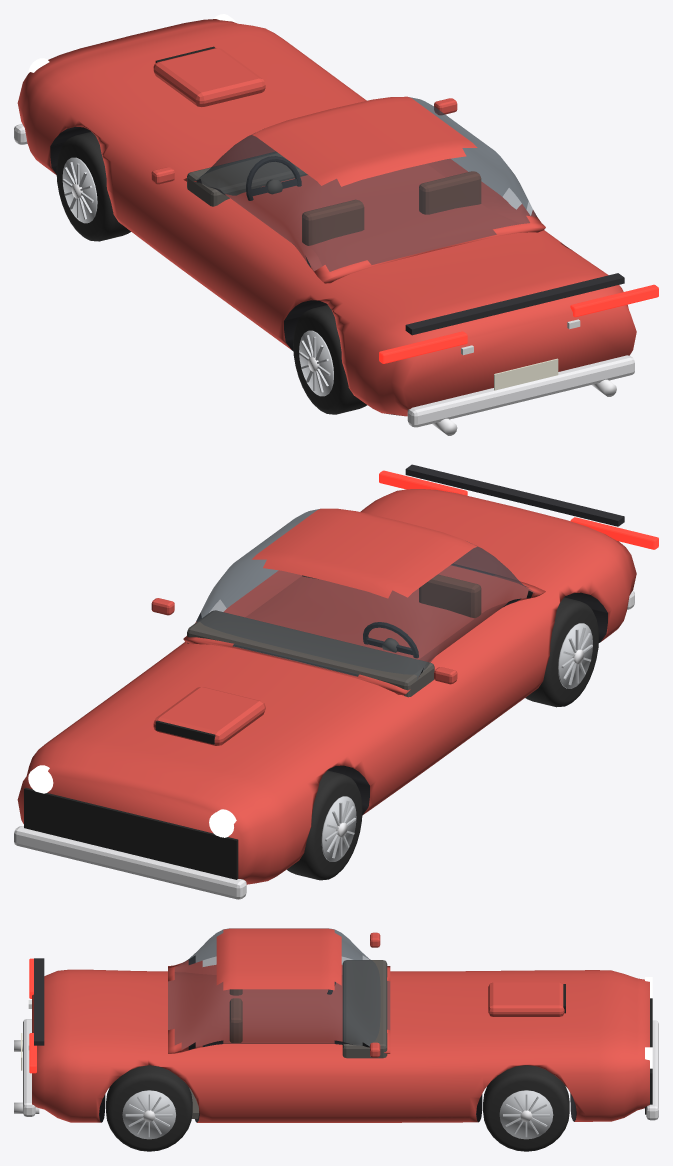
File: muscle.glb
3 renders of one model, top to bottom at view 1: azimuth 30°, elevation 25°; view 2: azimuth 150°, elevation 25°; view 3: azimuth 270°, elevation 25°, orthographic. The views are drawn at different scales.
Visible parts, largest first — view 1: Body.002, Glass.002, Interior.002, Wheel_FL.002, Wheel_RL.002, Lights_Tail.002, SteeringWheel.002; view 2: Body.002, Glass.002, Interior.002, Wheel_FL.002, Wheel_RL.002, Lights_Tail.002, Lights_Head.002, SteeringWheel.002; view 3: Body.002, Glass.002, Wheel_FR.002, Wheel_RR.002, Interior.002, Lights_Tail.002.
Part boxes in pixels (x1=…): Body.002: x1=14, y1=19, x2=636, y2=435; Glass.002: x1=196, y1=97, x2=536, y2=271; Interior.002: x1=187, y1=152, x2=481, y2=245; Wheel_FL.002: x1=56, y1=131, x2=130, y2=241; Wheel_RL.002: x1=293, y1=305, x2=367, y2=414; Lights_Tail.002: x1=379, y1=284, x2=658, y2=363; SteeringWheel.002: x1=246, y1=156, x2=301, y2=200; Body.002: x1=14, y1=464, x2=636, y2=899; Glass.002: x1=195, y1=508, x2=536, y2=679; Interior.002: x1=187, y1=574, x2=481, y2=697; Wheel_FL.002: x1=287, y1=770, x2=362, y2=880; Wheel_RL.002: x1=525, y1=597, x2=598, y2=707; Lights_Tail.002: x1=379, y1=470, x2=658, y2=549; Lights_Head.002: x1=28, y1=765, x2=236, y2=837; SteeringWheel.002: x1=363, y1=622, x2=418, y2=658; Body.002: x1=14, y1=928, x2=658, y2=1122; Glass.002: x1=168, y1=928, x2=390, y2=1049; Wheel_FR.002: x1=483, y1=1065, x2=569, y2=1151; Wheel_RR.002: x1=106, y1=1065, x2=192, y2=1151; Interior.002: x1=189, y1=960, x2=387, y2=1118; Lights_Tail.002: x1=29, y1=958, x2=36, y2=1073.
Bounding box in the file's own units: 2.18 × 1.3 × 5.06.
